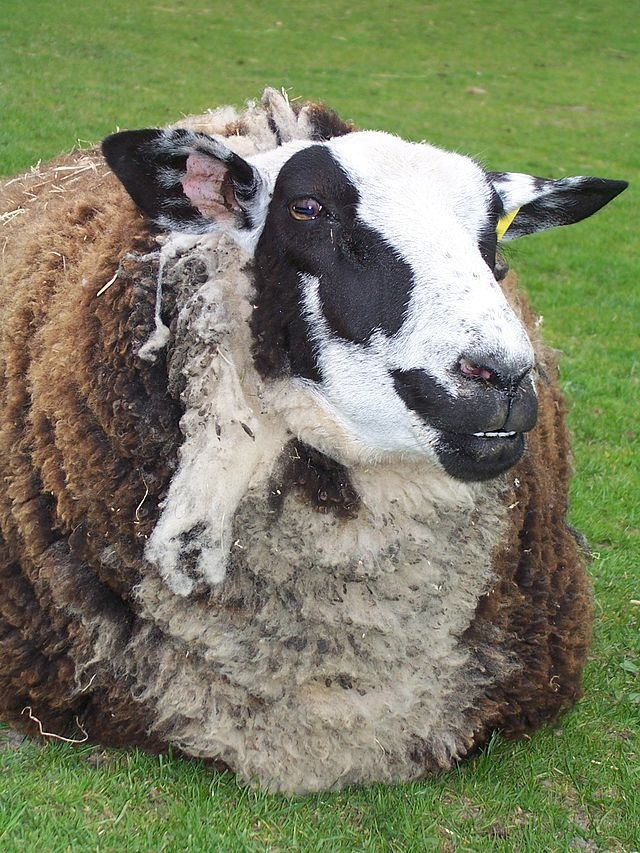resting: (1, 83, 632, 809)
